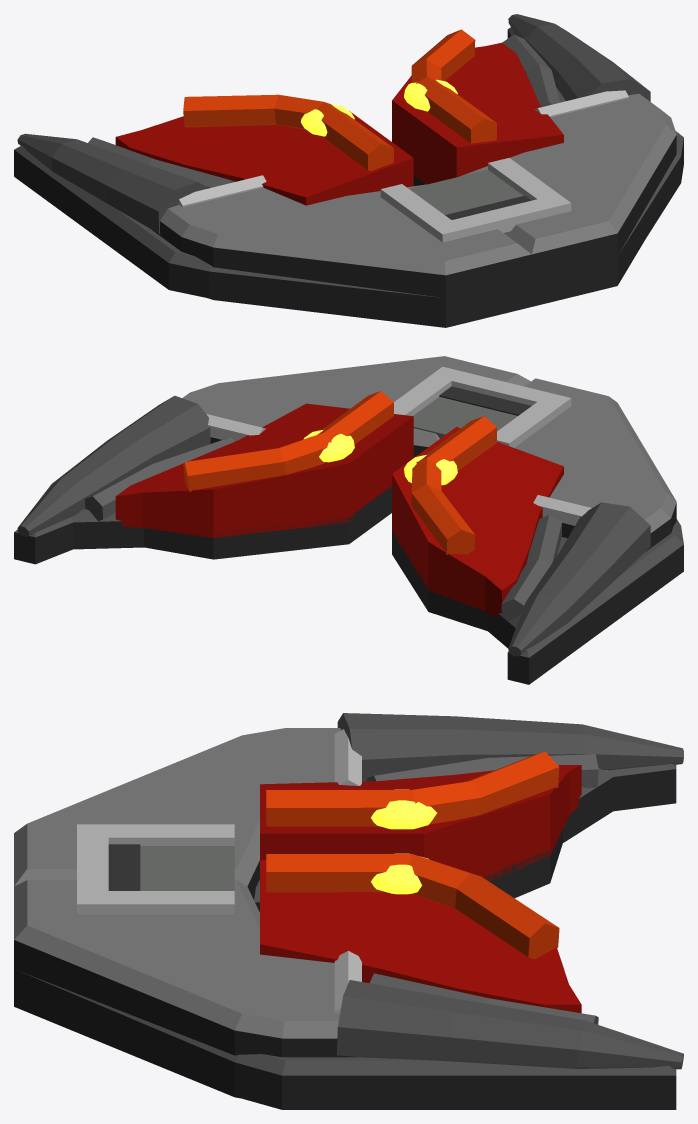
Rendered from newshk-207.glb.
3 renders of one model, top to bottom at view 1: azimuth 30°, elevation 25°; view 2: azimuth 150°, elevation 25°; view 3: azimuth 270°, elevation 25°, orthographic. The views are drawn at different scales.
Visible parts, largest first — view 1: newshk-207; view 2: newshk-207; view 3: newshk-207.
Boxes of the visible parts, x1=… form: newshk-207: x1=14, y1=14, x2=683, y2=327; newshk-207: x1=14, y1=356, x2=683, y2=684; newshk-207: x1=14, y1=713, x2=683, y2=1109.
Bounding box in the file's own units: 2 × 0.3833 × 1.77.
